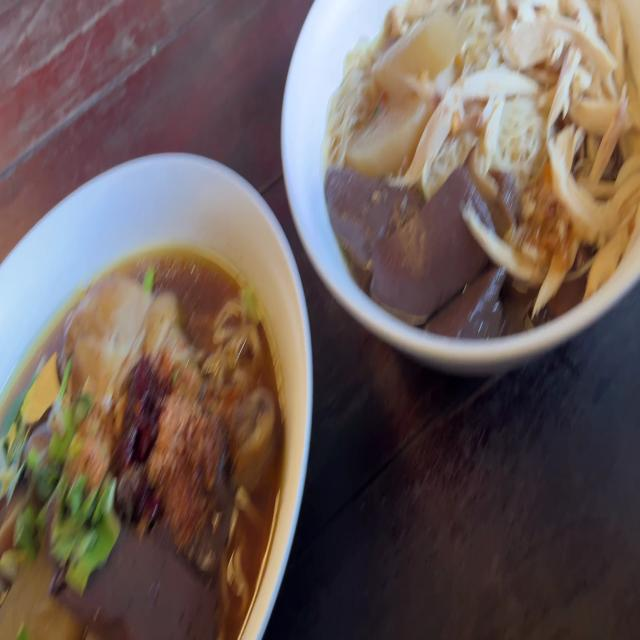noodle: (334, 168, 538, 327), (90, 530, 214, 630)
